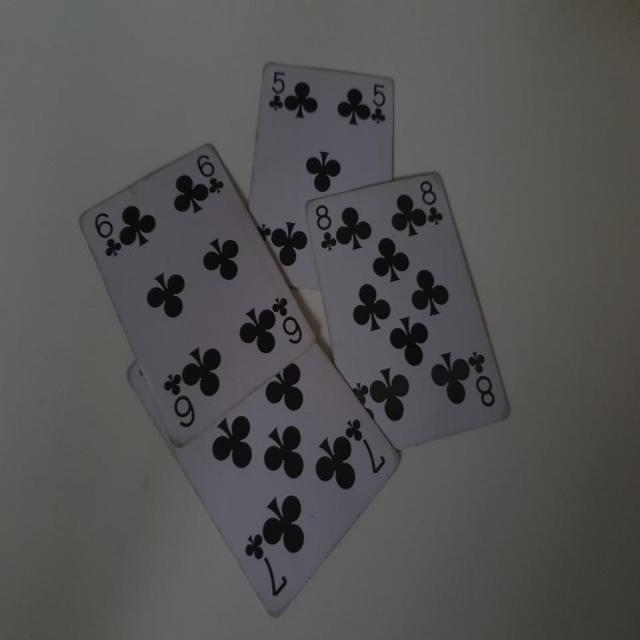5 Trefoils: (246, 62, 394, 289)
6 Trefoils: (77, 142, 316, 449)
7 Trefoils: (123, 354, 402, 618)
8 Trefoils: (305, 170, 511, 443)
